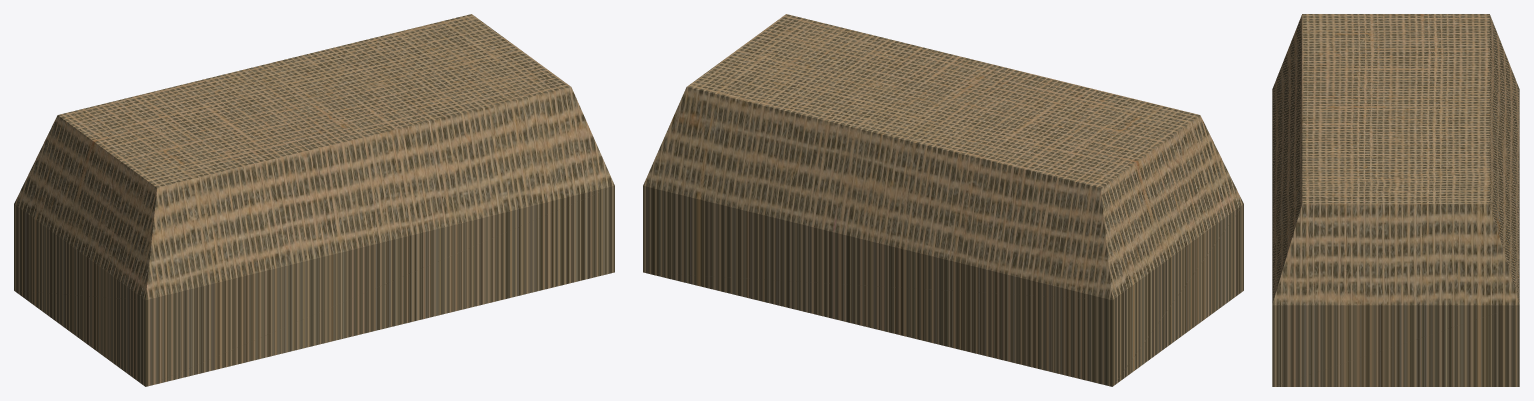
Rendered from conex_bunker.glb.
3 views of the same model, side by side, from view 1: azimuth 30°, elevation 25°; view 2: azimuth 150°, elevation 25°; view 3: azimuth 270°, elevation 25° (orthographic). The views are drawn at different scales.
Visible parts, largest first — view 1: CONEXBunker; view 2: CONEXBunker; view 3: CONEXBunker.
Part boxes in pixels (left/top/right/bottom): CONEXBunker: left=14, top=14, right=614, bottom=386; CONEXBunker: left=643, top=14, right=1243, bottom=386; CONEXBunker: left=1272, top=14, right=1519, bottom=386.
Size of the model in its own units: 6.8 by 2.5 by 3.3.
1 material, 1 textured.
